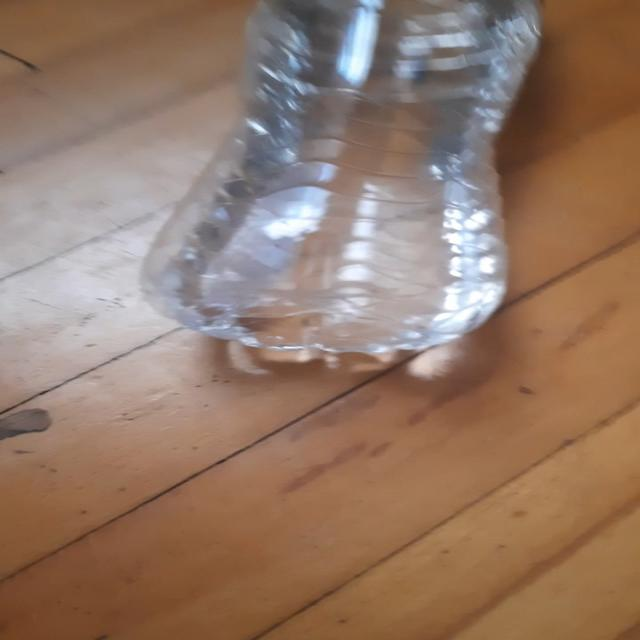Plastic: (140, 0, 544, 374)
